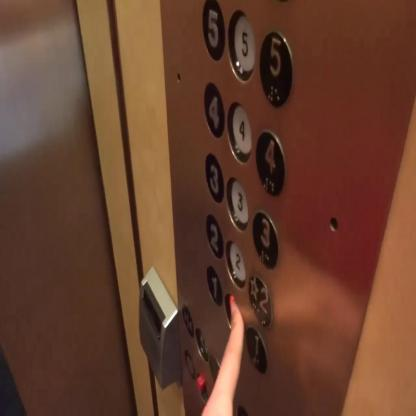1: (245, 323, 268, 376), (205, 264, 223, 307)
2: (247, 273, 269, 324), (225, 238, 246, 291), (205, 214, 223, 259)
3: (252, 209, 278, 268), (225, 176, 249, 232), (204, 152, 224, 203)
4: (256, 131, 284, 194), (226, 102, 251, 164), (203, 82, 224, 138)
5: (259, 32, 292, 108), (226, 9, 256, 84), (200, 0, 226, 61)
blur: (195, 326, 208, 362), (195, 371, 208, 403), (184, 350, 195, 379)
close: (182, 304, 193, 336)
